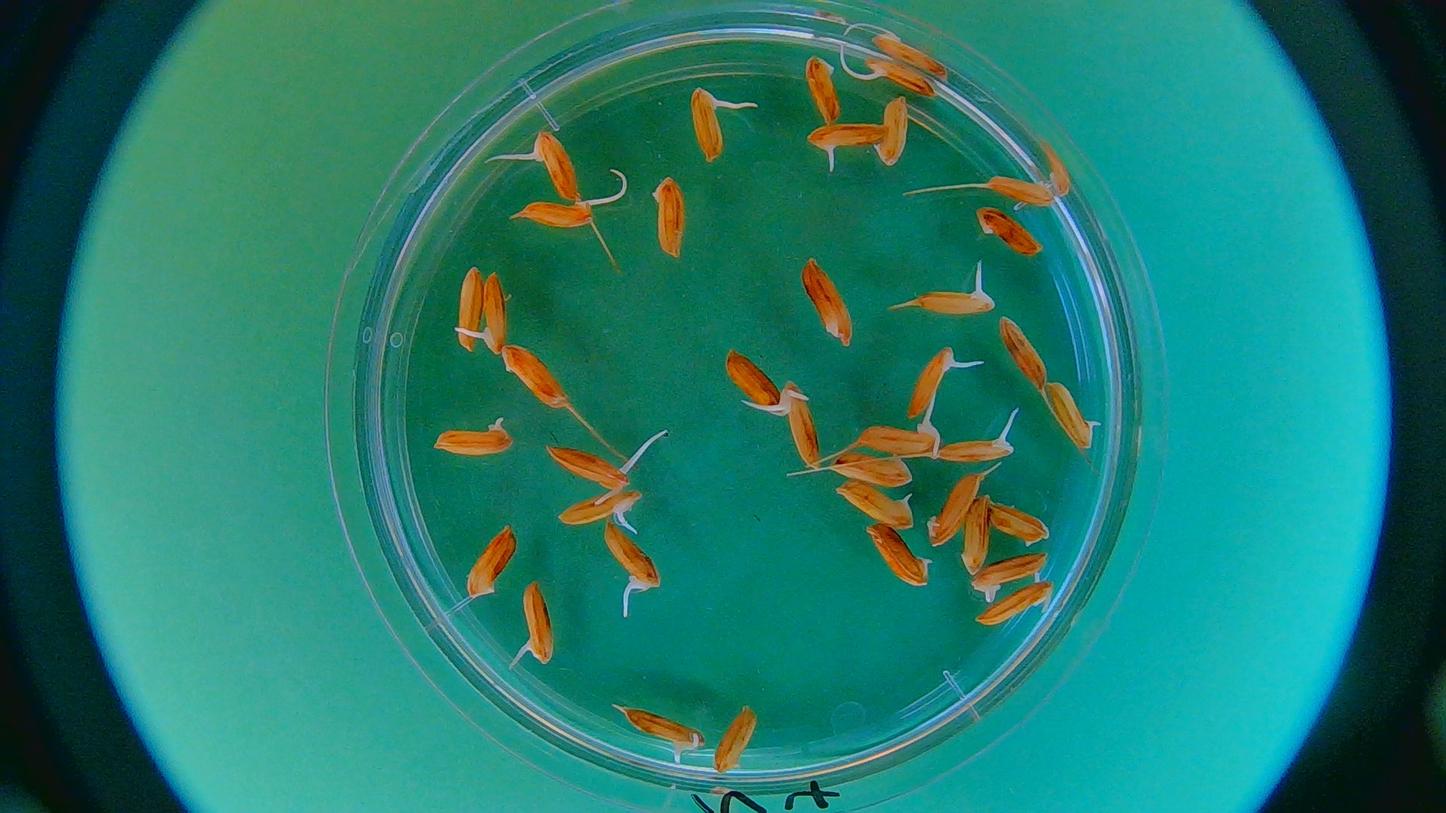no: (797, 258, 865, 358), (465, 516, 518, 598), (926, 474, 982, 550), (867, 528, 934, 588), (504, 344, 565, 407), (648, 173, 690, 263), (721, 342, 779, 406), (998, 314, 1045, 391), (975, 206, 1044, 257), (433, 413, 511, 458), (804, 56, 845, 128), (455, 267, 488, 355), (828, 453, 912, 486), (831, 452, 911, 486), (988, 500, 1047, 545), (712, 706, 755, 767), (874, 96, 910, 165), (960, 497, 990, 574), (986, 176, 1056, 206), (962, 495, 988, 574)
yes: (623, 708, 706, 762), (602, 523, 663, 594), (776, 379, 822, 469), (972, 581, 1055, 629), (542, 448, 630, 493), (901, 346, 956, 418), (835, 482, 914, 531), (1048, 381, 1101, 449), (971, 550, 1054, 591), (529, 132, 579, 200), (862, 56, 932, 103), (558, 491, 639, 529), (853, 424, 942, 458), (907, 282, 990, 317), (689, 90, 729, 160), (479, 270, 510, 357), (520, 580, 551, 666), (938, 431, 1015, 465), (808, 122, 886, 153), (514, 202, 595, 231)
